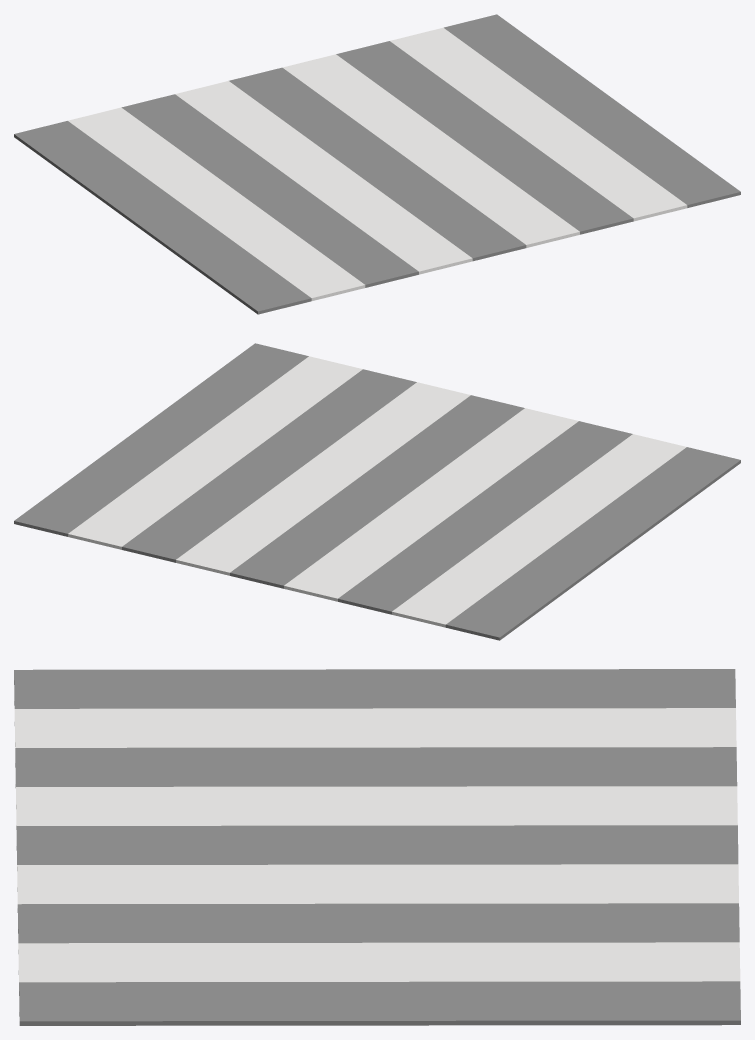
File: Carpet_3_231109.glb
3 renders of one model, top to bottom at view 1: azimuth 30°, elevation 25°; view 2: azimuth 150°, elevation 25°; view 3: azimuth 270°, elevation 25°, orthographic. The views are drawn at different scales.
Parts seen in each view (by area): view 1: Carpet_3; view 2: Carpet_3; view 3: Carpet_3.
Boxes of the visible parts, bbox=[...] form: Carpet_3: bbox=[14, 14, 740, 314]; Carpet_3: bbox=[14, 343, 740, 640]; Carpet_3: bbox=[14, 669, 740, 1025].
Bounding box in the file's own units: 3.38 × 0.0207 × 2.95.
1 material, 1 textured.
